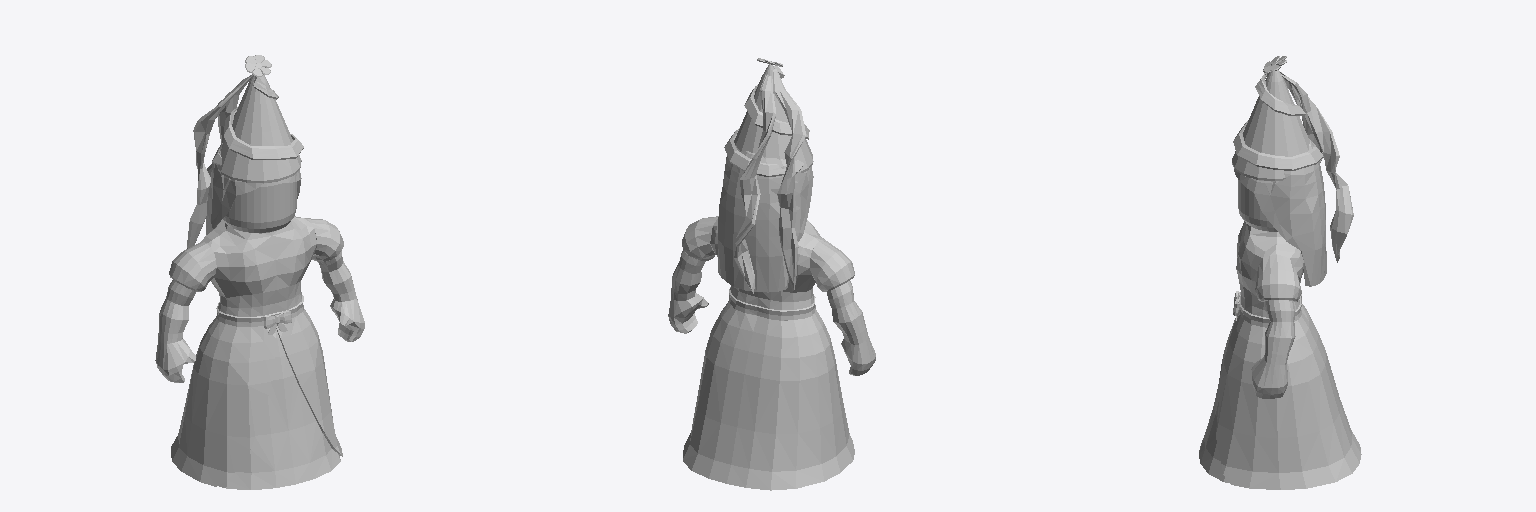
File: princess.obj
The picture shows the model from 3 angles: view 1: azimuth 30°, elevation 25°; view 2: azimuth 150°, elevation 25°; view 3: azimuth 270°, elevation 25°; orthographic projection.
Parts seen in each view (by area): view 1: Princess1, Princess6, Princess2, Princess3, Princess4, Princess5; view 2: Princess1, Princess6, Princess5, Princess2, Princess3; view 3: Princess1, Princess6, Princess5, Princess3, Princess4.
Boxes of the visible parts, box(x1,y1,x2,y2) form: Princess1: box(171, 216, 342, 489); Princess6: box(187, 55, 303, 248); Princess2: box(155, 242, 216, 382); Princess3: box(305, 218, 364, 341); Princess4: box(223, 182, 296, 233); Princess5: box(206, 144, 301, 234); Princess1: box(683, 219, 854, 490); Princess6: box(724, 58, 813, 293); Princess5: box(718, 145, 813, 292); Princess2: box(810, 240, 875, 375); Princess3: box(668, 216, 718, 333); Princess1: box(1199, 221, 1361, 489); Princess6: box(1232, 56, 1353, 262); Princess5: box(1234, 139, 1326, 286); Princess3: box(1251, 255, 1301, 398); Princess4: box(1238, 180, 1277, 231).
Bounding box in the file's own units: 3.52 × 6.68 × 2.49.